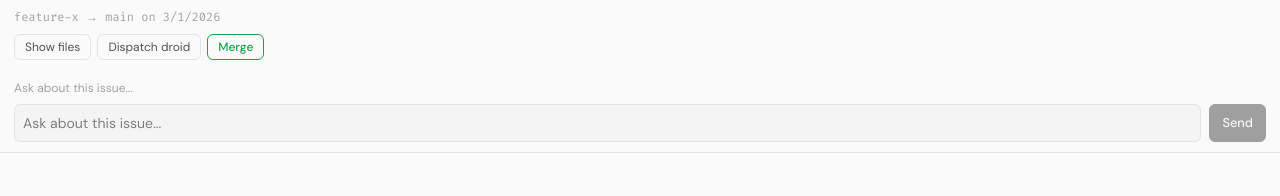
Test: PrCard › shows merge error
This screenshot has width=1280, height=196.
Click the button "Merge": (236, 47) [207, 34, 264, 60]
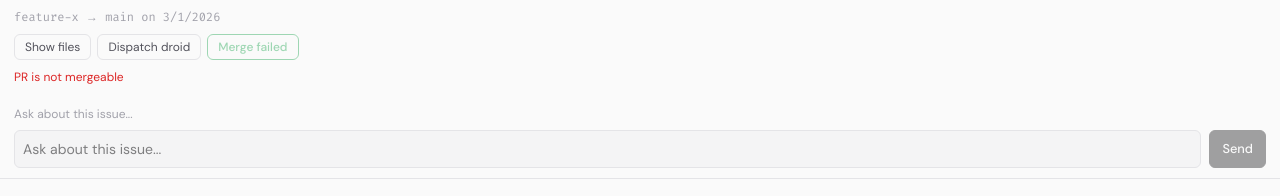
Expected: the text "PR is not mergeable" is shown, [14, 69, 124, 85]
